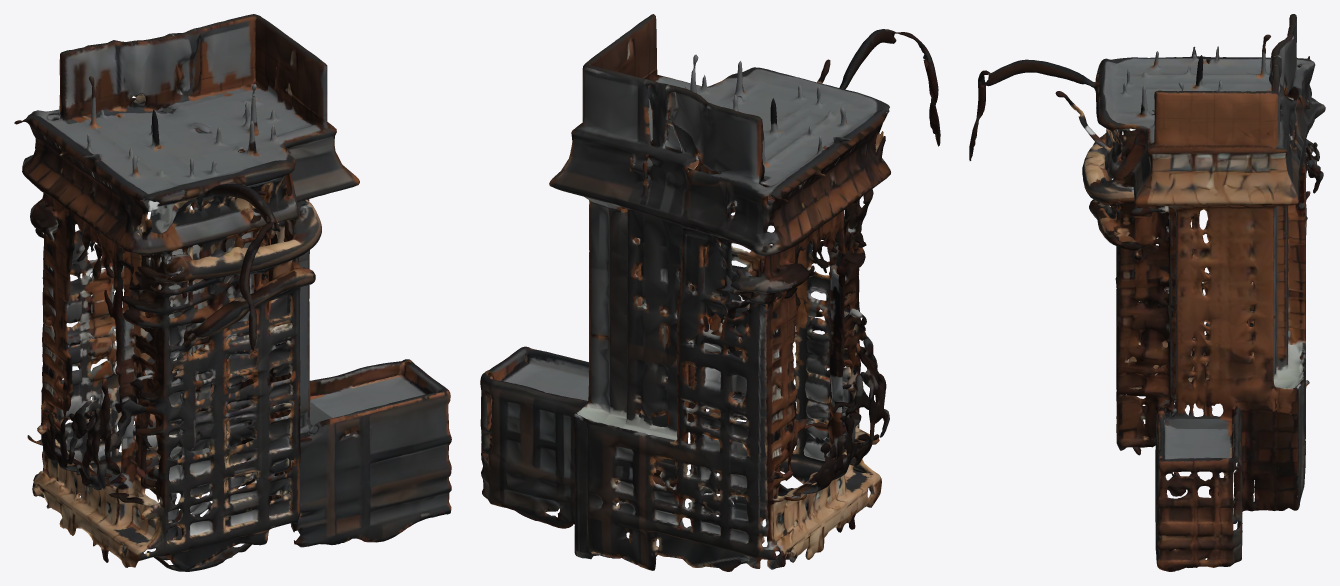
File: ruined_megastructures_97923.glb
The picture shows the model from 3 angles, left to right: view 1: azimuth 30°, elevation 25°; view 2: azimuth 150°, elevation 25°; view 3: azimuth 270°, elevation 25°; orthographic projection. The views are drawn at different scales.
Visible parts, largest first — view 1: Mesh; view 2: Mesh; view 3: Mesh.
Boxes of the visible parts, x1,y1,x2,y2 form: Mesh: (14,14,451,571); Mesh: (480,14,940,571); Mesh: (969,14,1325,571).
Size of the model in its own units: 0.9591 by 1.26 by 0.9372.
1 material, 1 textured.
